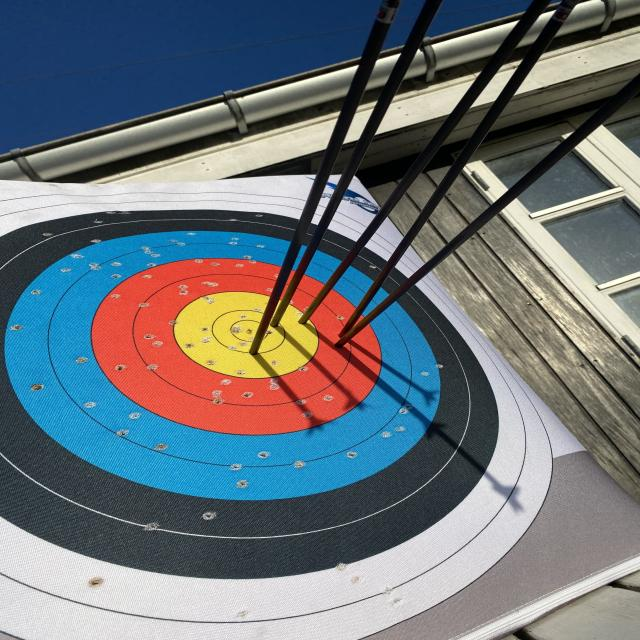Arrow_Red: (325, 332, 366, 367), (326, 314, 371, 342)
Arrow_Yellow: (251, 312, 299, 335), (291, 308, 324, 336), (235, 341, 274, 364)
